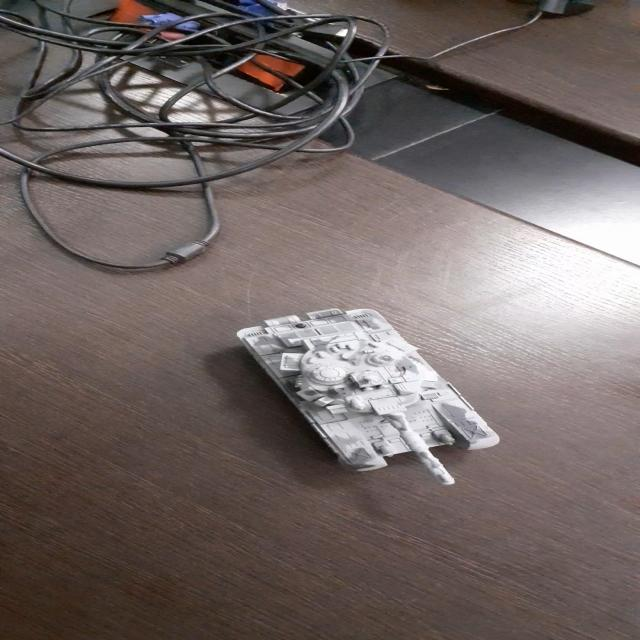tank: (237, 308, 501, 486)
